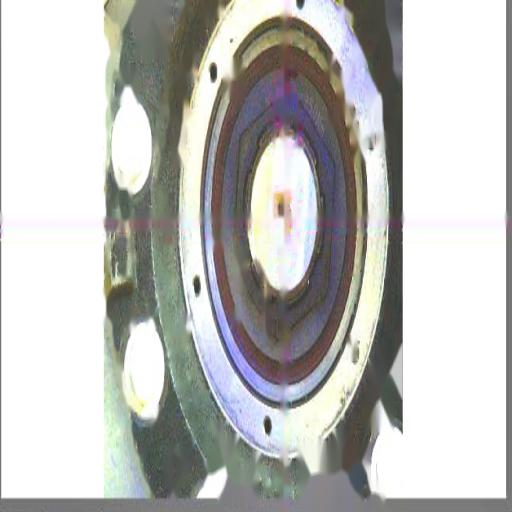center: (276, 192, 290, 222)
notch: (288, 57, 298, 92)
